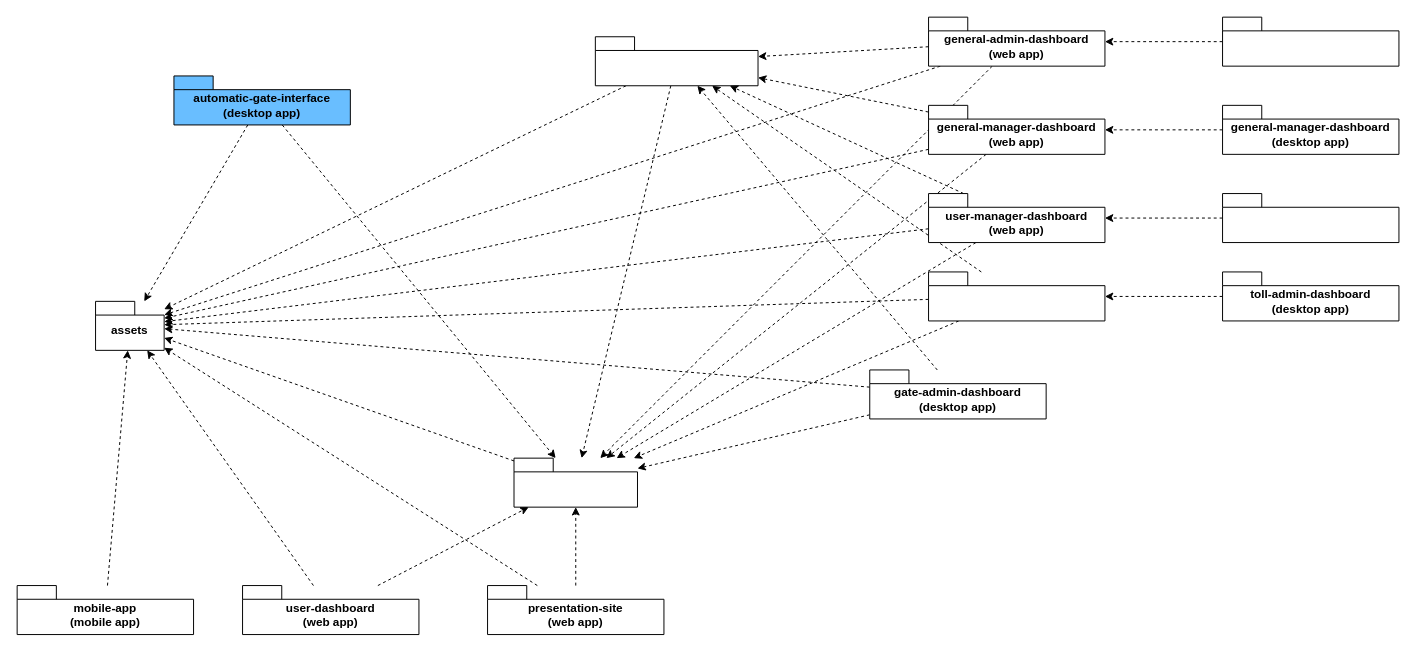
This 1416x652 diagram has some shape labels left out. Each missing label, with the centre of its shape:
admin-dashboard-shared: the point at 676,61
design-system: the point at 575,482
general-admin-dashboard (desktop app): the point at 1310,41
toll-admin-dashboard (web app): the point at 1016,296
user-manager-dashboard (desktop app): the point at 1310,218
